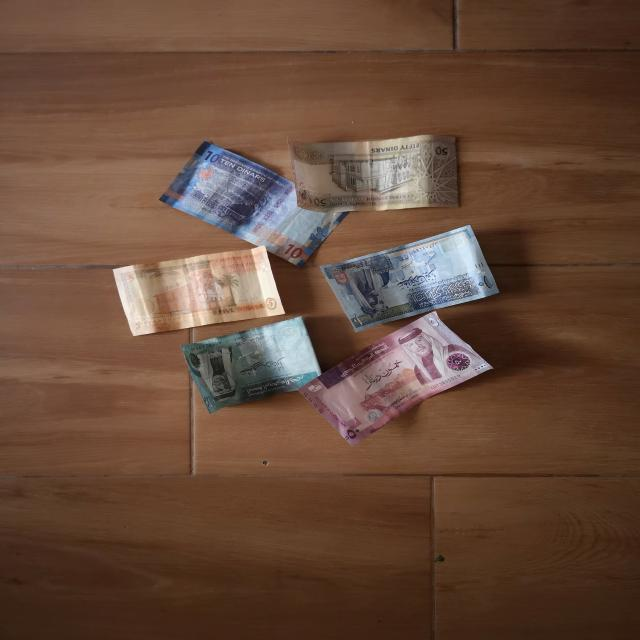10-dinar: (159, 140, 350, 268), (319, 225, 500, 332), (287, 135, 459, 212)
20-dinar: (180, 316, 322, 414)
5-dinar: (113, 245, 286, 336)
50-dinar: (297, 311, 494, 447)
